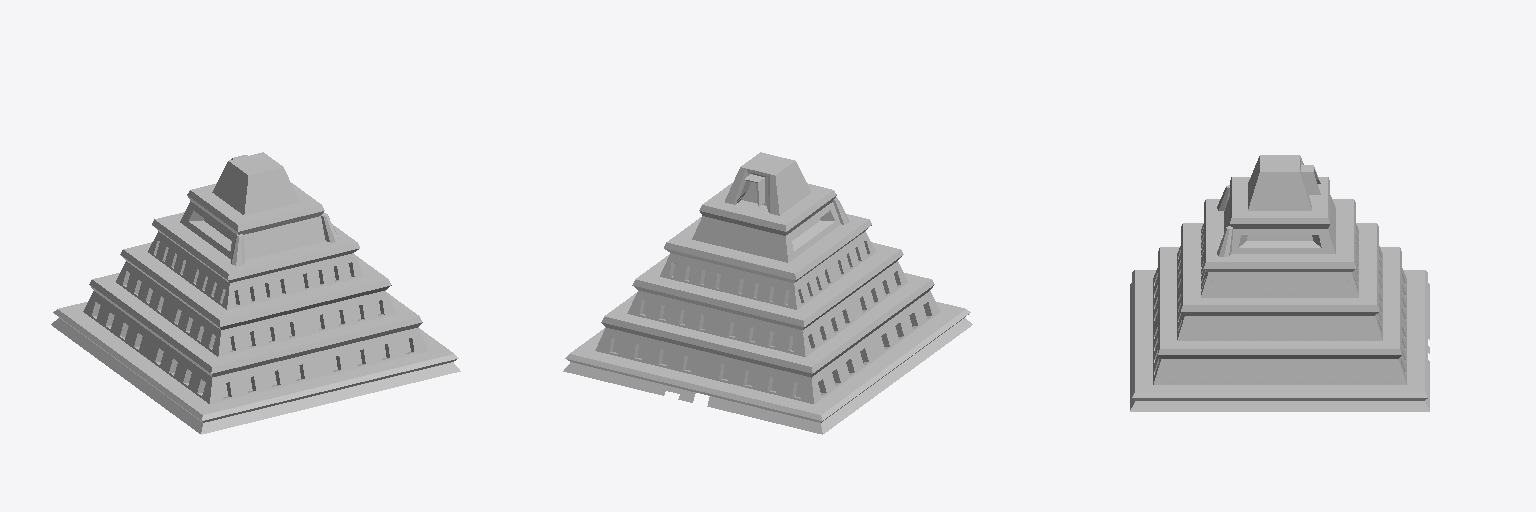
Rendered from TheKeep.obj.
3 renders of one model, left to right at view 1: azimuth 30°, elevation 25°; view 2: azimuth 150°, elevation 25°; view 3: azimuth 270°, elevation 25°, orthographic.
Visible parts, largest first — view 1: Cube; view 2: Cube; view 3: Cube.
Boxes of the visible parts, x1=… form: Cube: x1=51, y1=152, x2=460, y2=434; Cube: x1=563, y1=152, x2=972, y2=434; Cube: x1=1130, y1=155, x2=1429, y2=411.
Size of the model in its own units: 1000 by 677 by 1000.